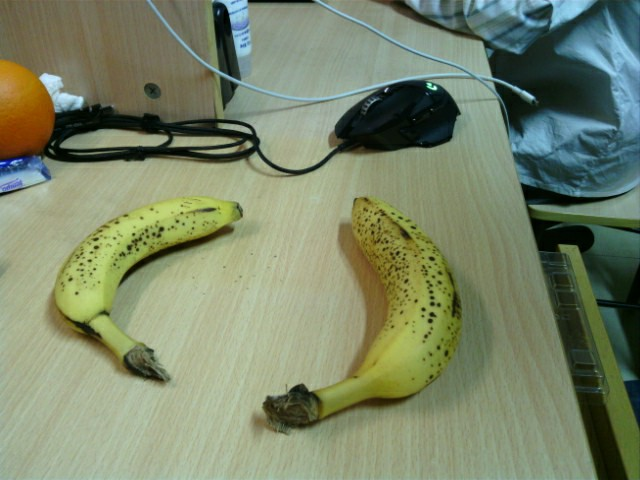normal_banana: (263, 197, 462, 432), (53, 196, 245, 385)
